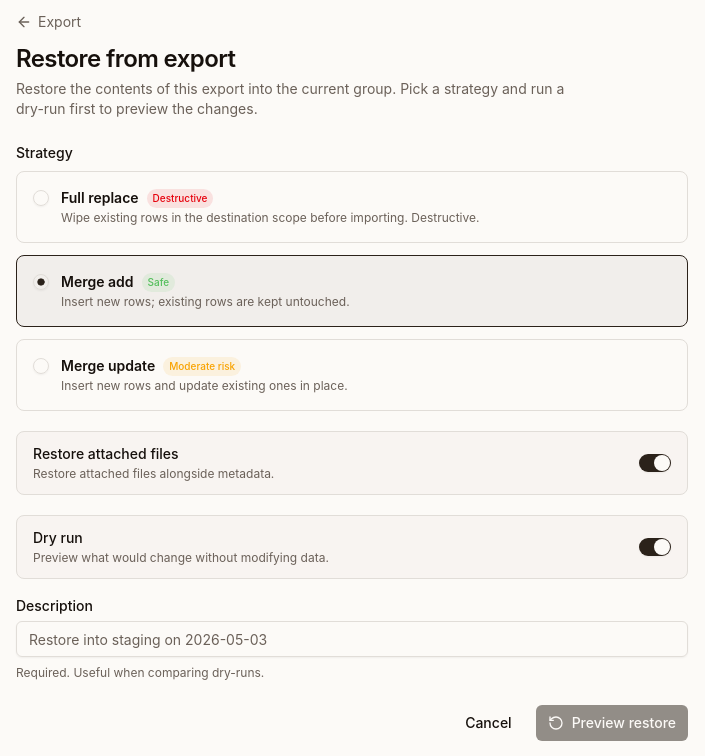
Test: <ExportRestorePage /> › warns when full_replace is picked WITHOUT dry-run
Click the label with test id "restore-strategy-full_replace" at (352, 207), box [16, 171, 688, 243]
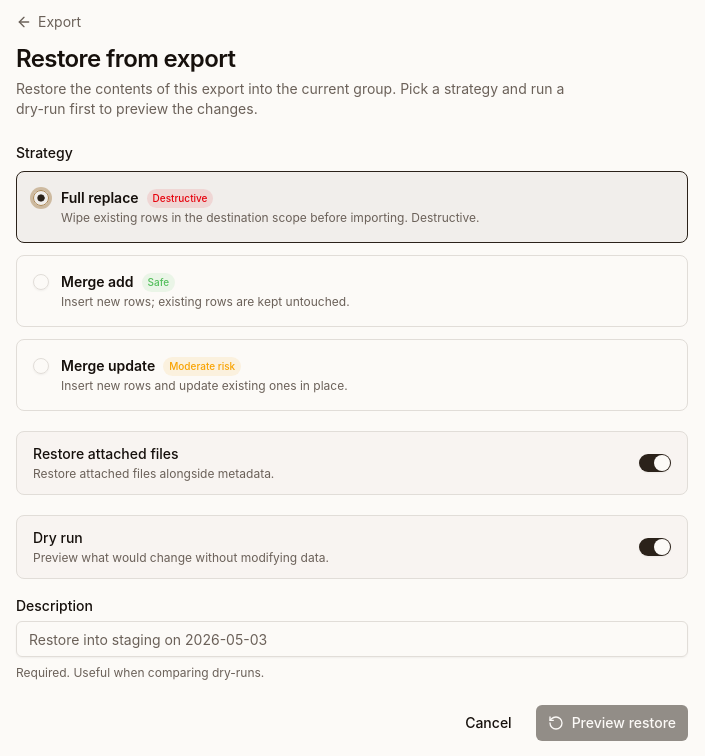
Click the switch with test id "restore-dry-run" at (655, 547), box [639, 538, 671, 556]
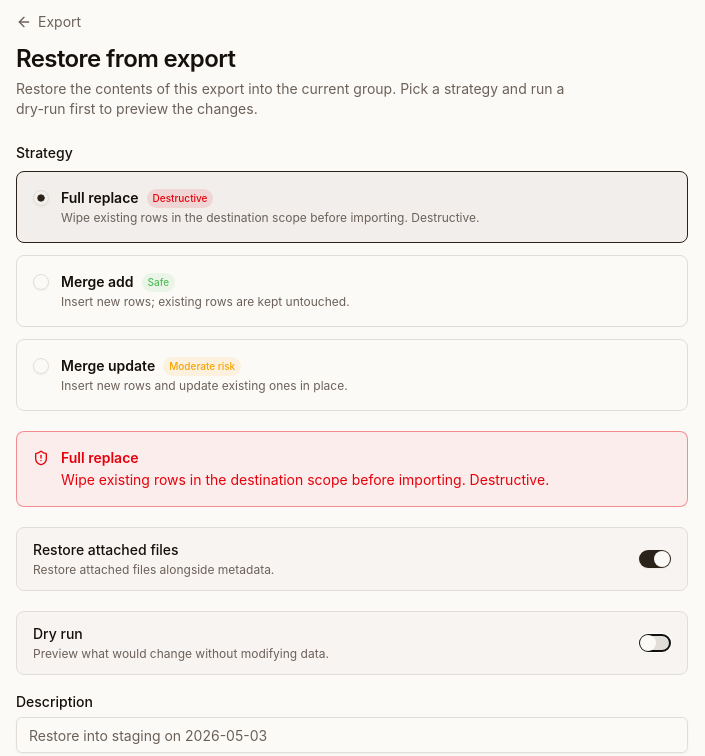
Expected: the message with test id "restore-destructive-warning" is shown, [16, 431, 688, 507]
